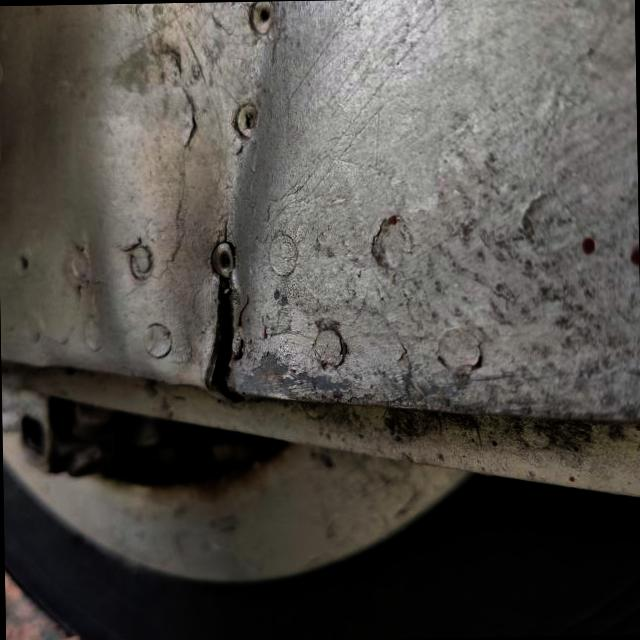crack: (180, 262, 272, 411)
